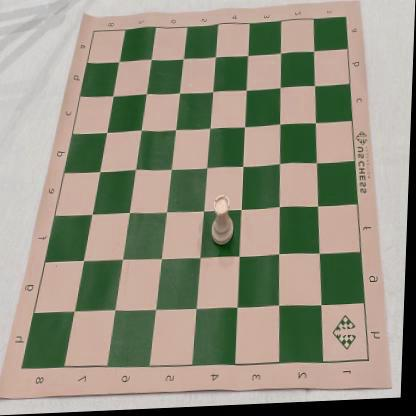white-rook: (212, 196, 237, 249)
